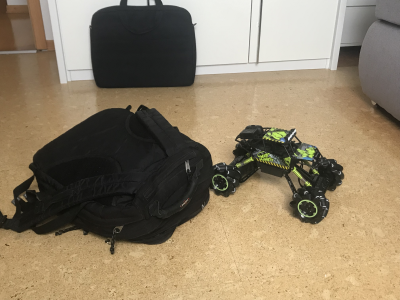remote control car: (207, 121, 347, 225)
